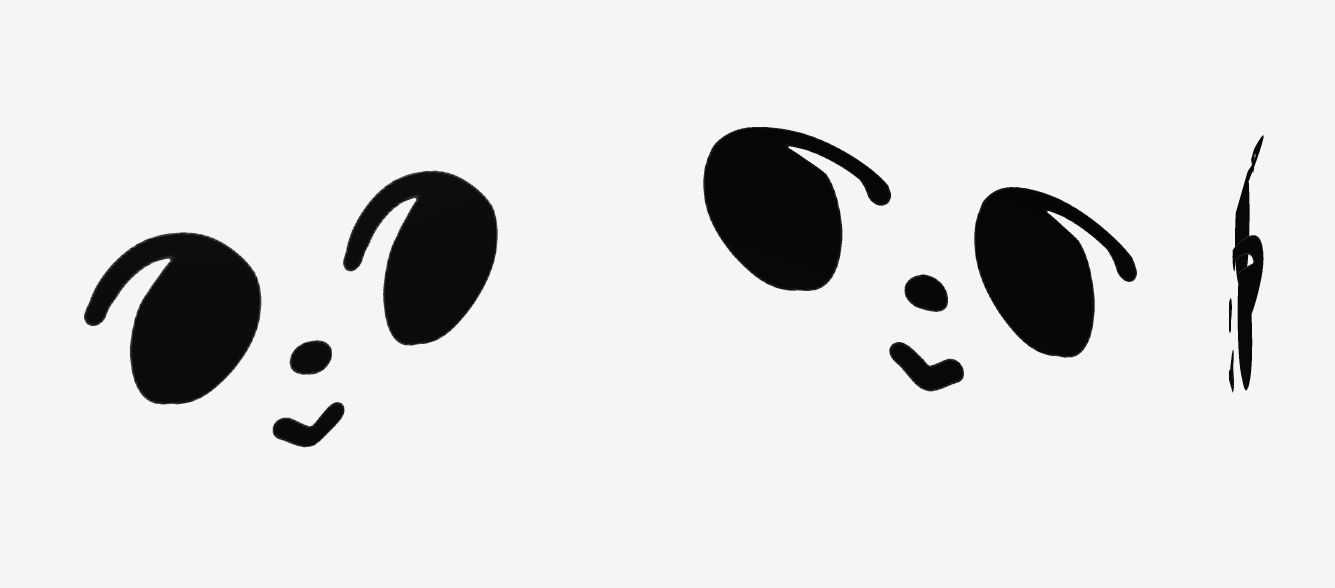
The picture shows the model from 3 angles, left to right: view 1: azimuth 30°, elevation 25°; view 2: azimuth 150°, elevation 25°; view 3: azimuth 270°, elevation 25°; orthographic projection. The views are drawn at different scales.
Parts seen in each view (by area): view 1: face; view 2: face; view 3: face.
Boxes of the visible parts, x1,y1,x2,y2 form: face: (84,170,497,447); face: (703,127,1136,391); face: (1229,135,1263,392).
Bounding box in the file's own units: 46.29 × 33.59 × 7.75.
1 material, 1 textured.
